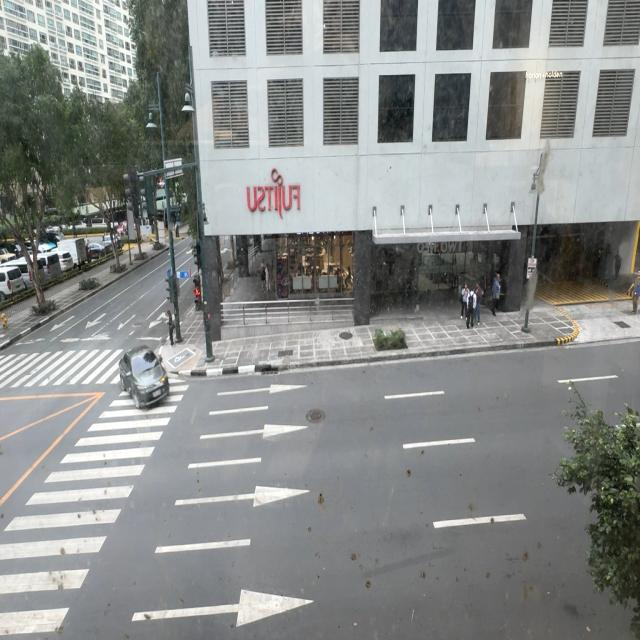waiting: (164, 304, 174, 356)
